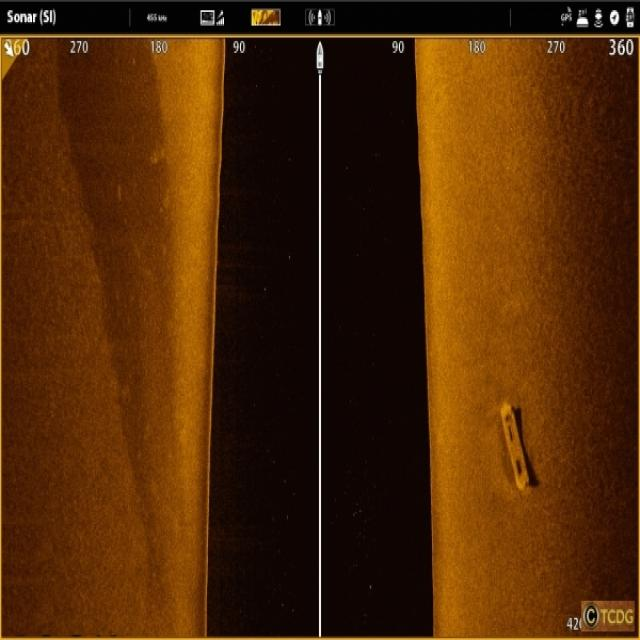ship: (497, 398, 534, 490)
